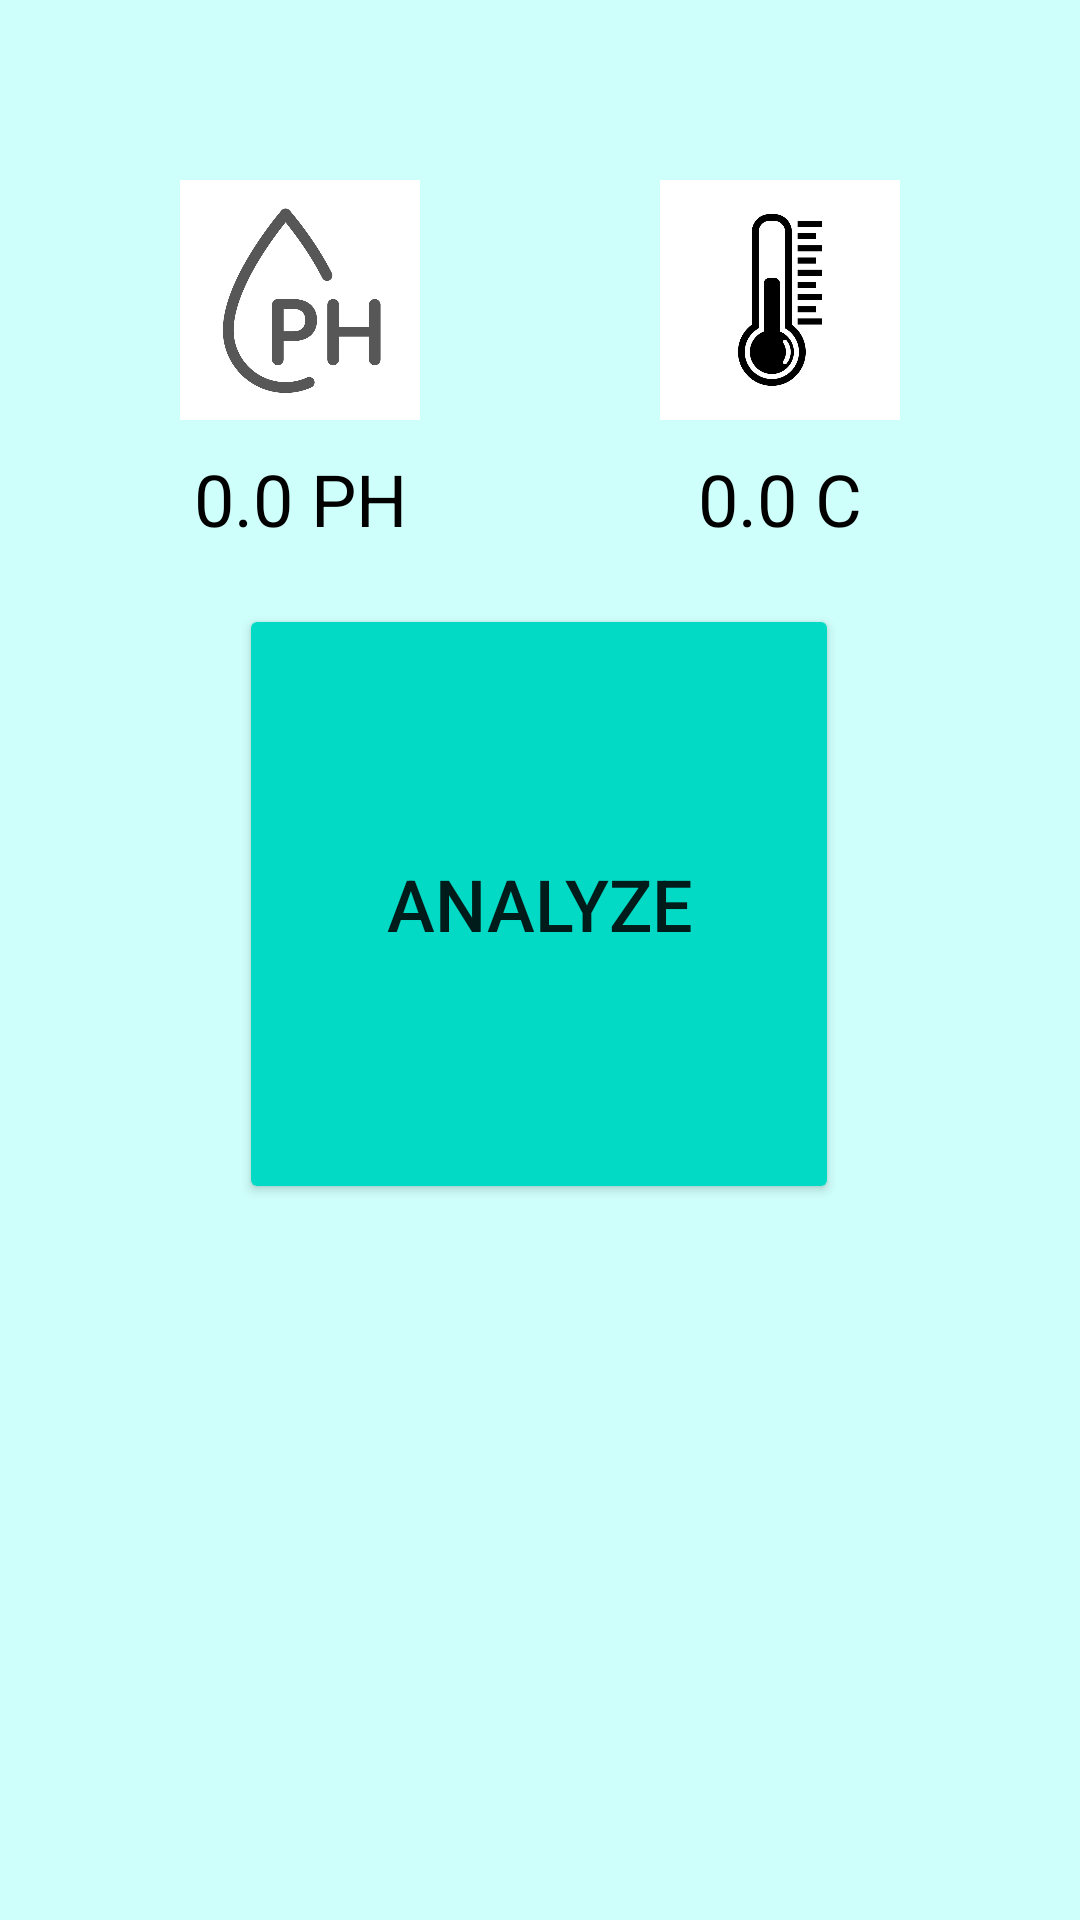

Named icons in this screenshot (1080*1920) and their centers, [x,y]:
temperature: [780,300]
